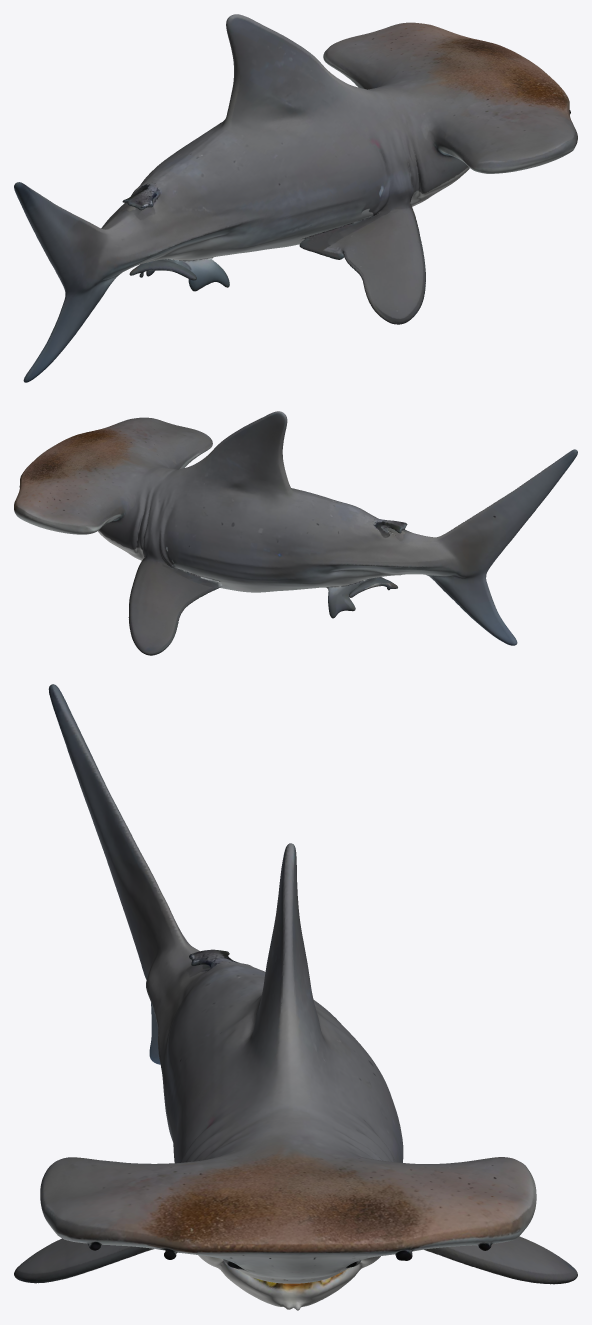
The model's file is hammer_e3.glb.
The picture shows the model from 3 angles, top to bottom: view 1: azimuth 30°, elevation 25°; view 2: azimuth 150°, elevation 25°; view 3: azimuth 270°, elevation 25°; orthographic projection. The views are drawn at different scales.
Visible parts, largest first — view 1: tripo_node_33381024-ae1d-4070-aaf4-7096b5aba70d; view 2: tripo_node_33381024-ae1d-4070-aaf4-7096b5aba70d; view 3: tripo_node_33381024-ae1d-4070-aaf4-7096b5aba70d.
Part boxes in pixels (x1=…): tripo_node_33381024-ae1d-4070-aaf4-7096b5aba70d: x1=14, y1=14, x2=577, y2=382; tripo_node_33381024-ae1d-4070-aaf4-7096b5aba70d: x1=14, y1=411, x2=577, y2=655; tripo_node_33381024-ae1d-4070-aaf4-7096b5aba70d: x1=14, y1=684, x2=577, y2=1310.
Size of the model in its own units: 1 by 0.4293 by 0.5517.
Materials: 1 (1 with a texture image).
